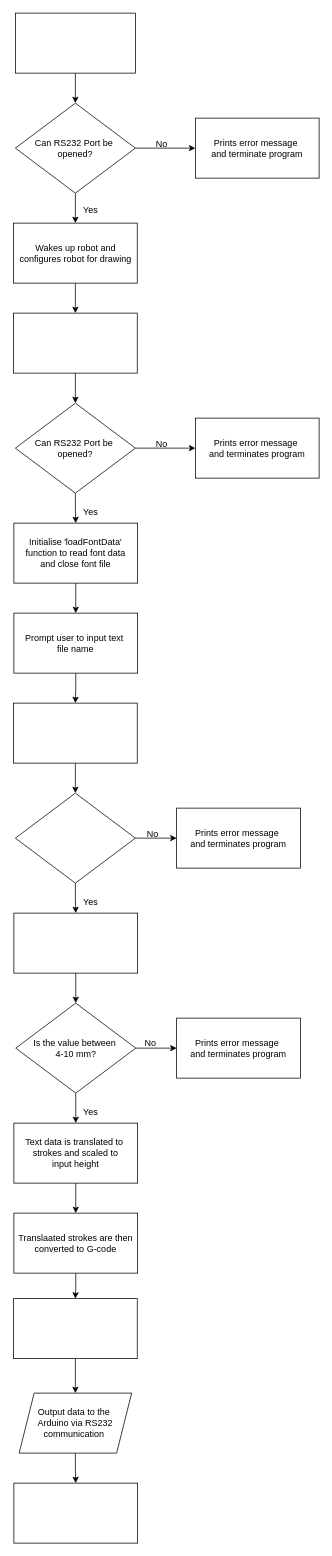
This 332x1556 diagram has some shape labels left out. Here are the shapes that lost their labels. From the top down, the centre of each, then its label:
pixel 75 42: Initialise main()
pixel 75 342: Open 'SingleStrokeFont.txt'
pixel 75 732: Open and read text file
pixel 75 837: Array of text data has content
pixel 75 942: Prompt user to input text height
pixel 75 1328: 'generateAndSendGCode' function generates the G-code and sends it to the robot
pixel 75 1512: Close the RS232 communication port and terminate the program
